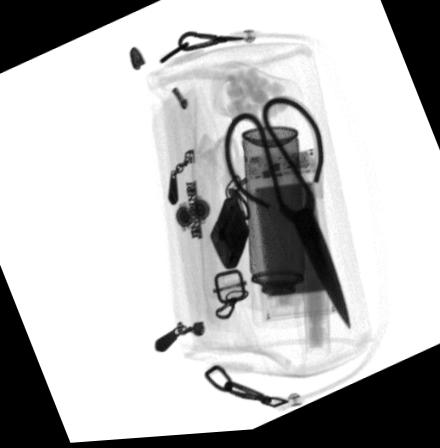Lighter: (207, 199, 250, 274)
Powerbank: (239, 150, 335, 330)
Scissors: (219, 100, 352, 334)
Sprayer: (239, 128, 302, 331)
